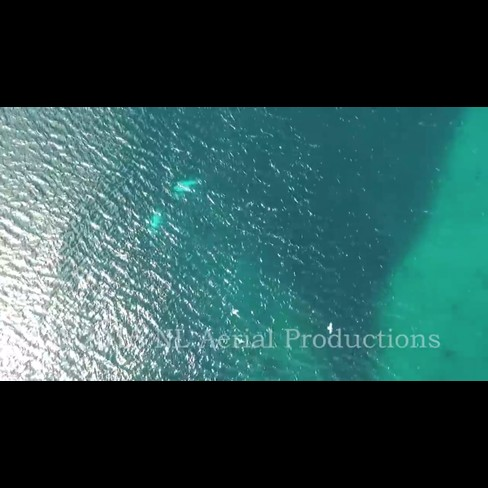hump: (161, 172, 203, 201)
